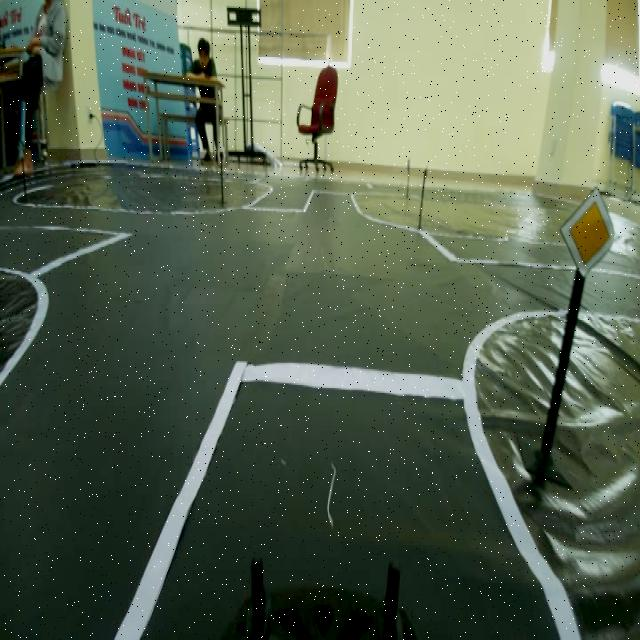priority: (555, 185, 617, 278)
